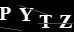P: (1, 7, 10, 20)
T: (38, 14, 53, 29)
Y: (17, 7, 34, 21)
Z: (58, 14, 74, 29)
